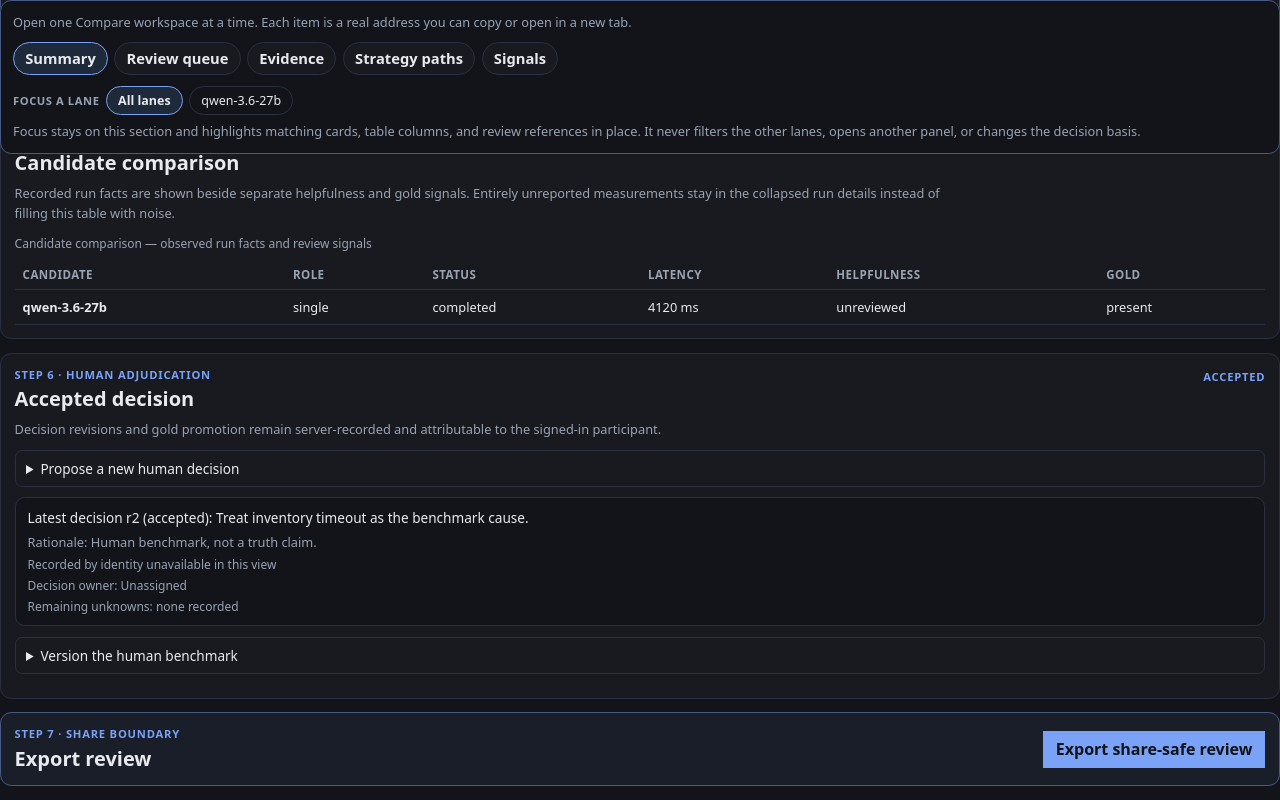
Scenario: trusted benchmark promotion and owner-only handoff › does not borrow a coincidentally matching local snapshot without host-frozen proof
This screenshot has width=1280, height=800.
(page scrolled)
Click the heading "Version the human benchmark".
click(139, 655)  # box [40,646,238,665]
(page scrolled)
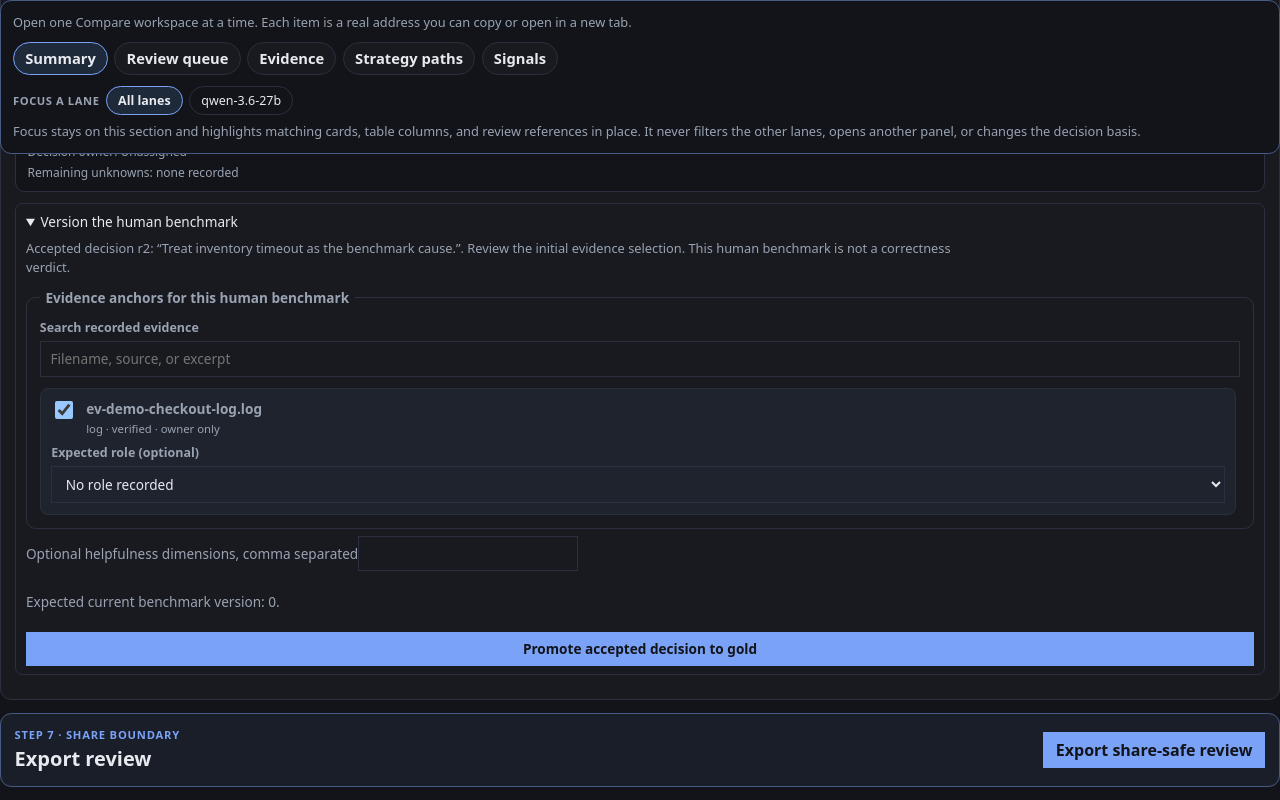
Now the number of checkboxes is 1, box [55,402,73,419]
Now the checkbox holds "ev-demo-checkout-log", box [55,402,73,419]
Now the checkbox is checked, box [55,402,73,419]
